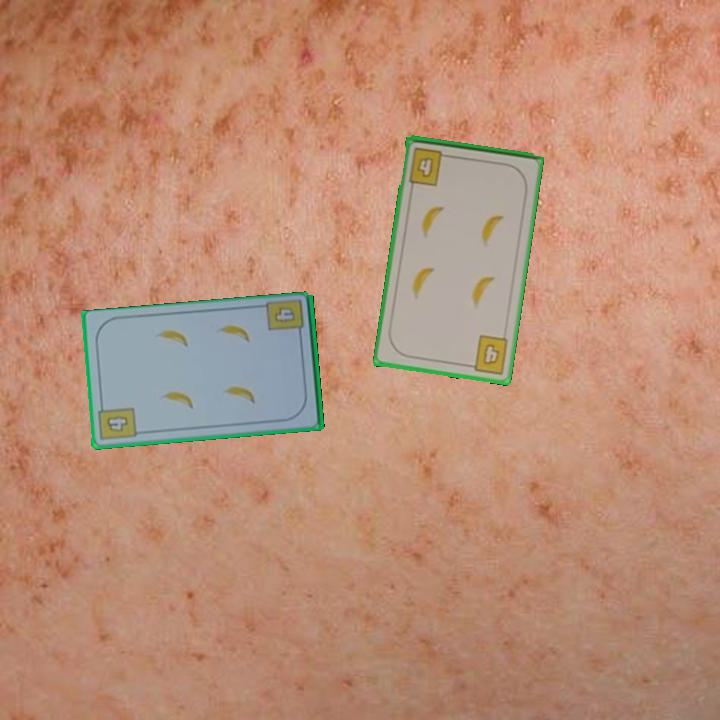4b: (463, 332, 511, 377), (406, 144, 453, 189), (95, 400, 139, 444), (273, 305, 296, 324)
